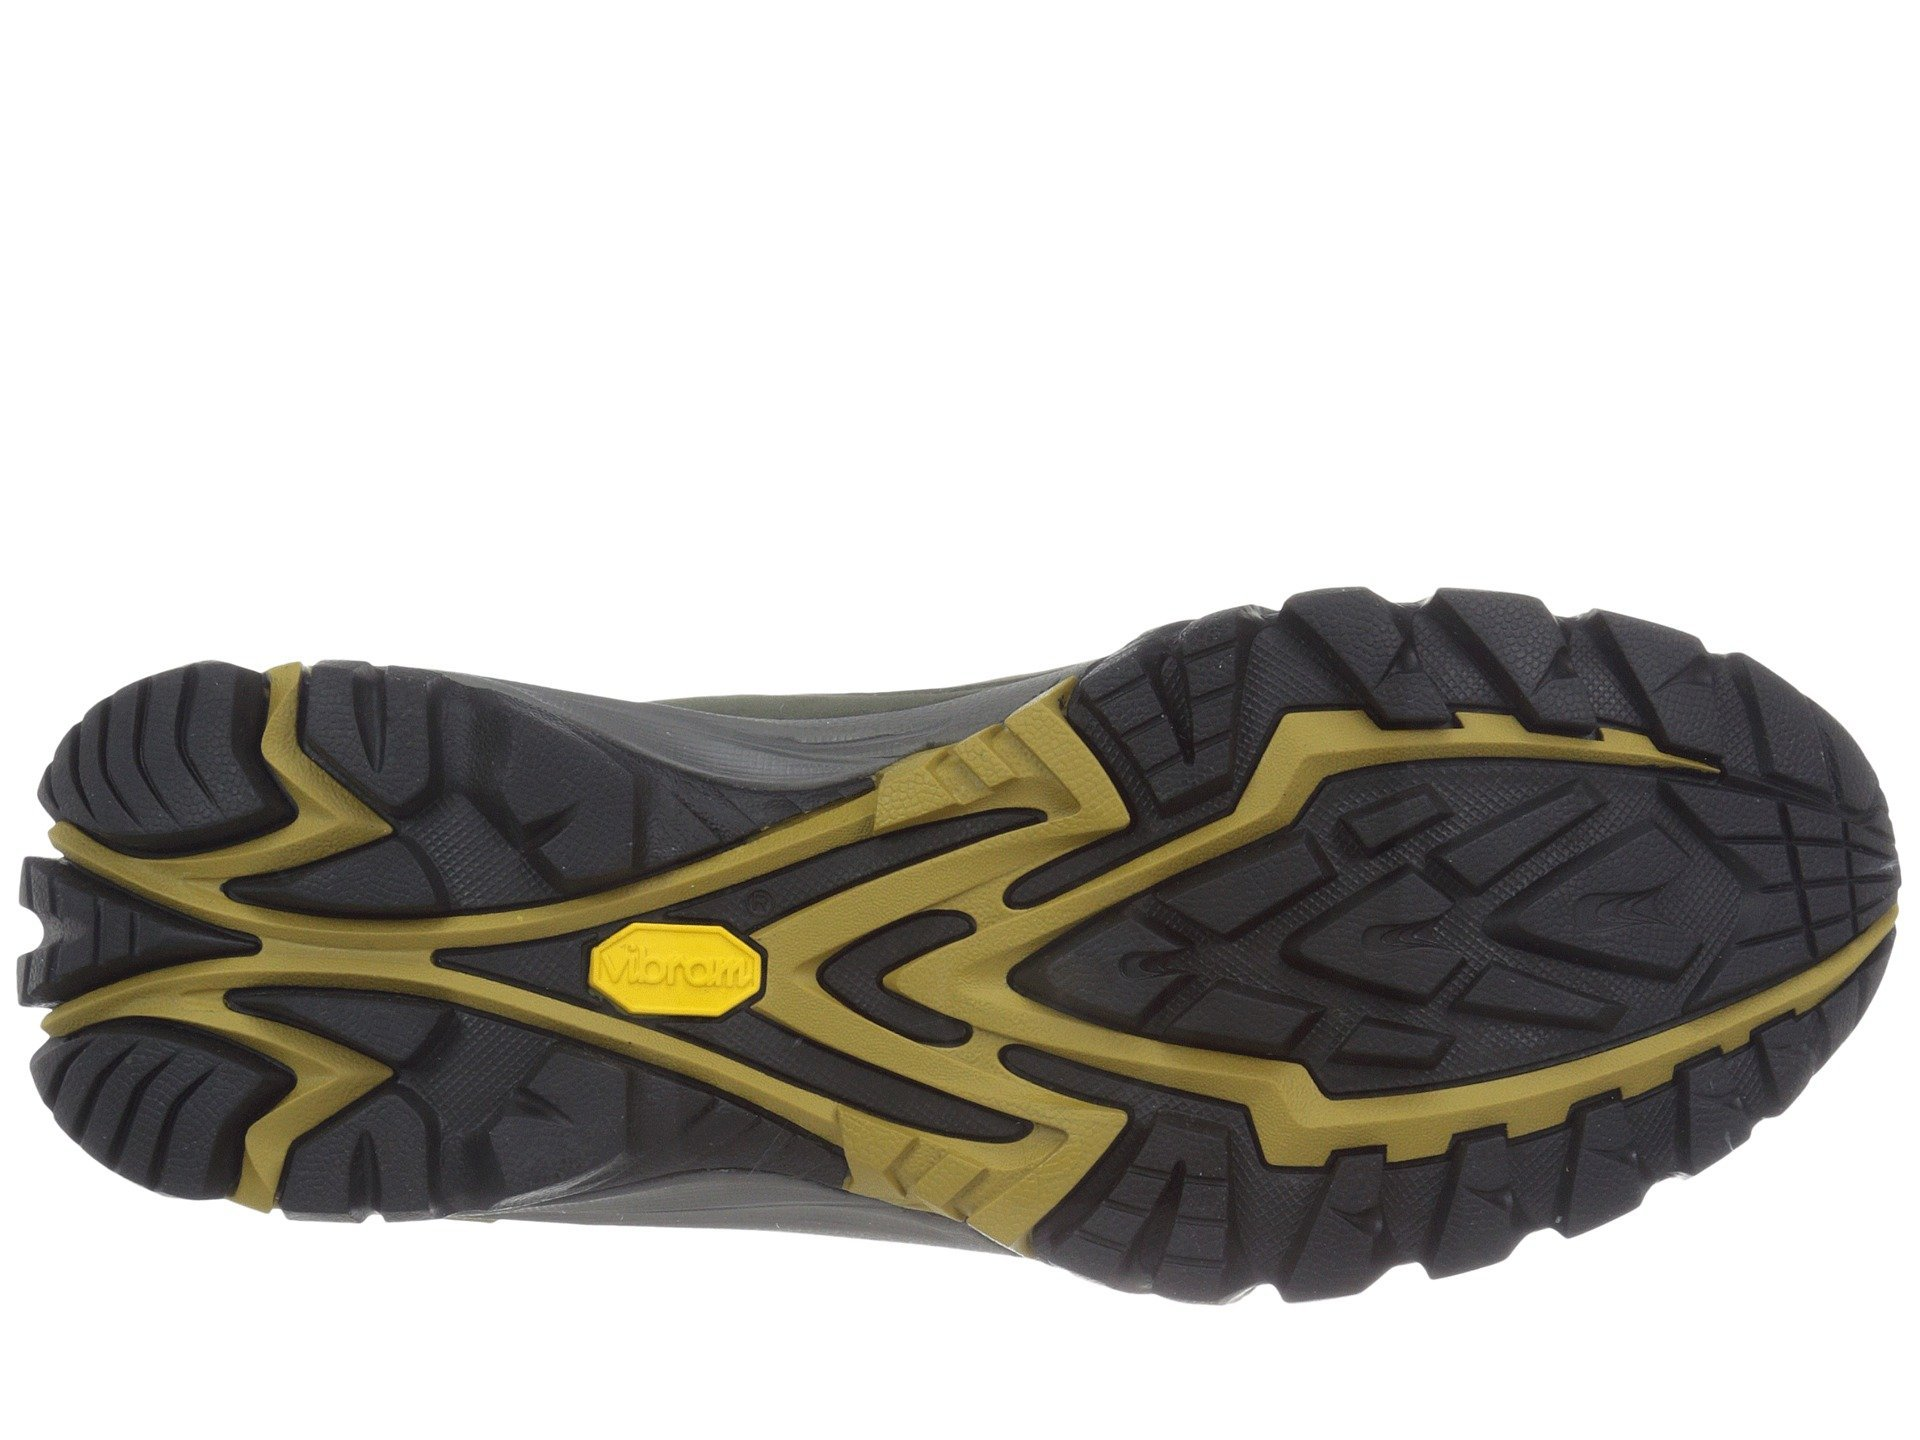chevron: (810, 892, 1048, 1078)
circle: (576, 906, 766, 1016)
line: (200, 824, 470, 1063), (1643, 759, 1891, 1016), (1120, 820, 1338, 1100), (44, 685, 225, 790)
polygon: (576, 906, 766, 1016)
quad: (1643, 759, 1891, 1016), (1120, 820, 1338, 1100)
text: (576, 906, 766, 1016)
triangle: (200, 824, 470, 1063), (1643, 759, 1891, 1016)
